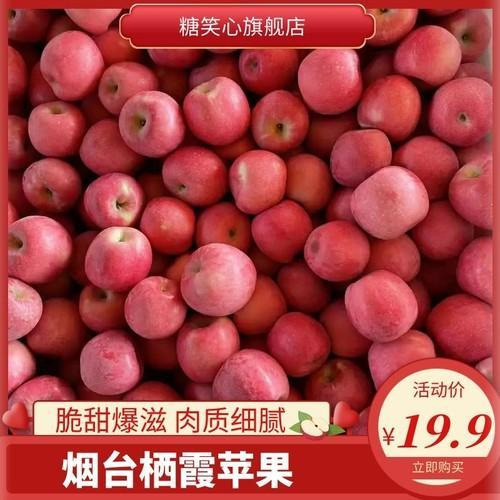apple: (352, 167, 430, 238), (182, 244, 257, 315), (345, 272, 418, 341), (182, 76, 252, 146), (429, 76, 494, 148), (264, 310, 332, 378), (116, 90, 185, 157), (41, 29, 104, 102), (84, 226, 153, 292), (429, 292, 494, 361), (211, 348, 292, 403), (10, 216, 74, 285), (177, 313, 240, 383), (394, 24, 462, 88), (303, 219, 372, 282), (356, 74, 421, 140), (298, 50, 362, 115), (77, 332, 144, 394), (250, 200, 312, 266), (125, 275, 186, 339), (399, 137, 460, 201), (249, 90, 310, 153), (164, 148, 227, 207), (332, 129, 394, 187), (82, 172, 144, 229), (231, 147, 285, 212), (450, 156, 494, 232), (29, 101, 87, 158), (139, 196, 195, 254), (98, 61, 157, 116), (80, 120, 141, 173), (22, 160, 81, 214), (307, 361, 372, 409), (238, 45, 300, 94), (195, 202, 252, 250), (285, 153, 330, 213), (77, 284, 131, 330), (456, 237, 493, 301), (9, 278, 42, 343)
